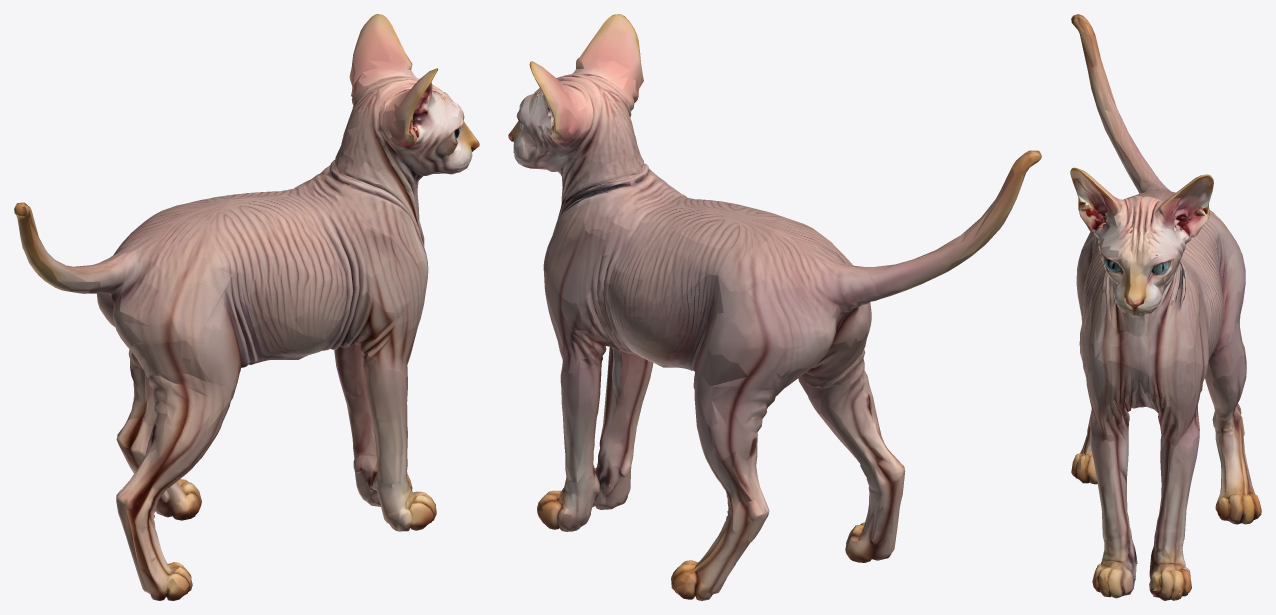
Rendered from BIGGLESCAT.glb.
3 views of the same model, side by side, from view 1: azimuth 30°, elevation 25°; view 2: azimuth 150°, elevation 25°; view 3: azimuth 270°, elevation 25° (orthographic). The views are drawn at different scales.
Visible parts, largest first — view 1: fit; view 2: fit; view 3: fit.
Boxes of the visible parts, x1,y1,x2,y2 form: fit: (14,14,479,600); fit: (508,14,1041,600); fit: (1070,14,1261,600).
Size of the model in its own units: 1.11 by 1 by 0.4077.
Materials: 1 (1 with a texture image).
